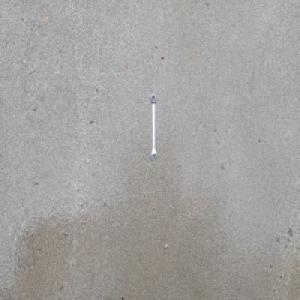Wrench: (149, 92, 157, 162)
